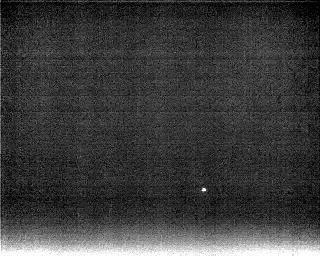BIRD: (199, 184, 209, 196)
